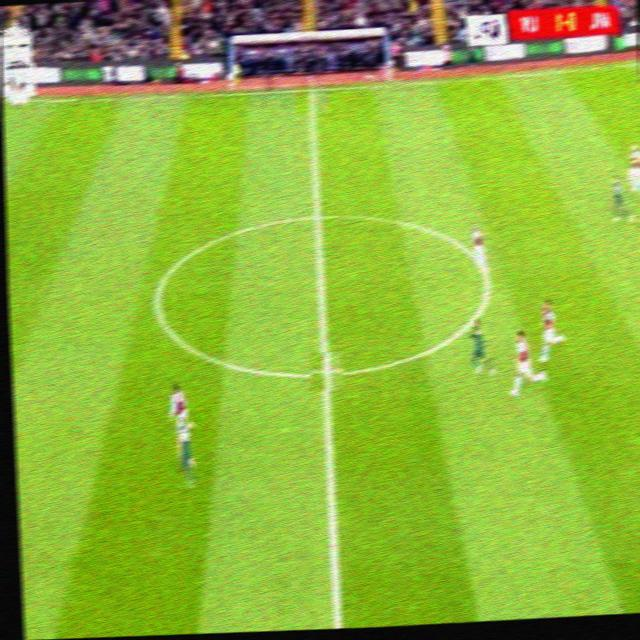halfcircle_bottom: (309, 351, 343, 395)
halfcircle_top: (302, 196, 335, 235)
midline_top_intersection: (293, 63, 329, 114)
